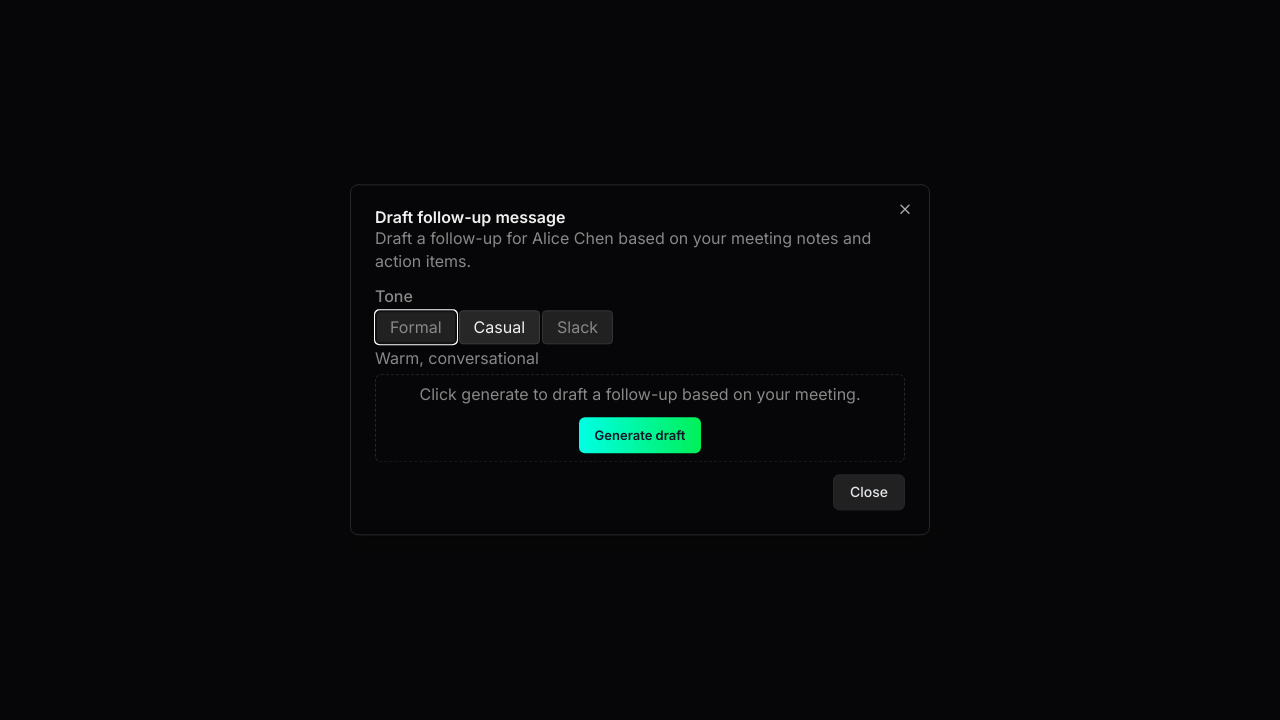
Scenario: FollowUpDraftModal › shows loading state while generating
Click the button "Generate draft".
click(640, 436)  # box [579, 418, 701, 454]
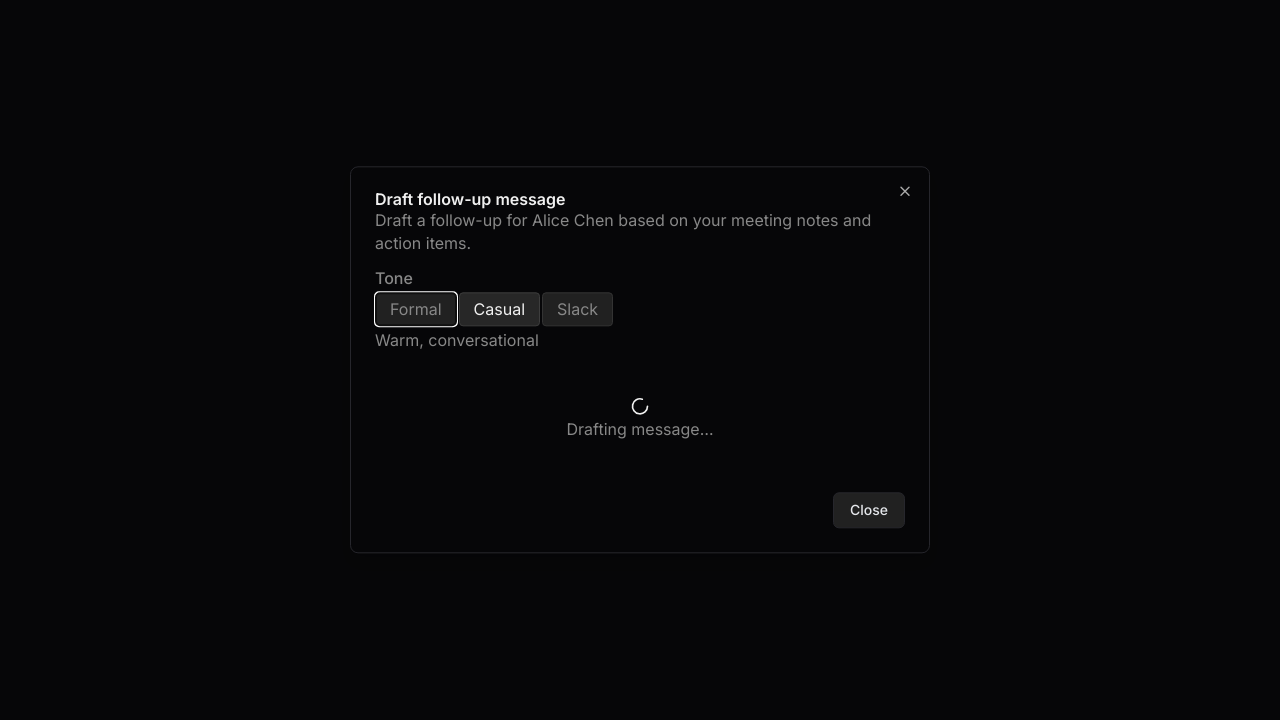
Now the text "Drafting message…" is shown, box [566, 418, 714, 441]
